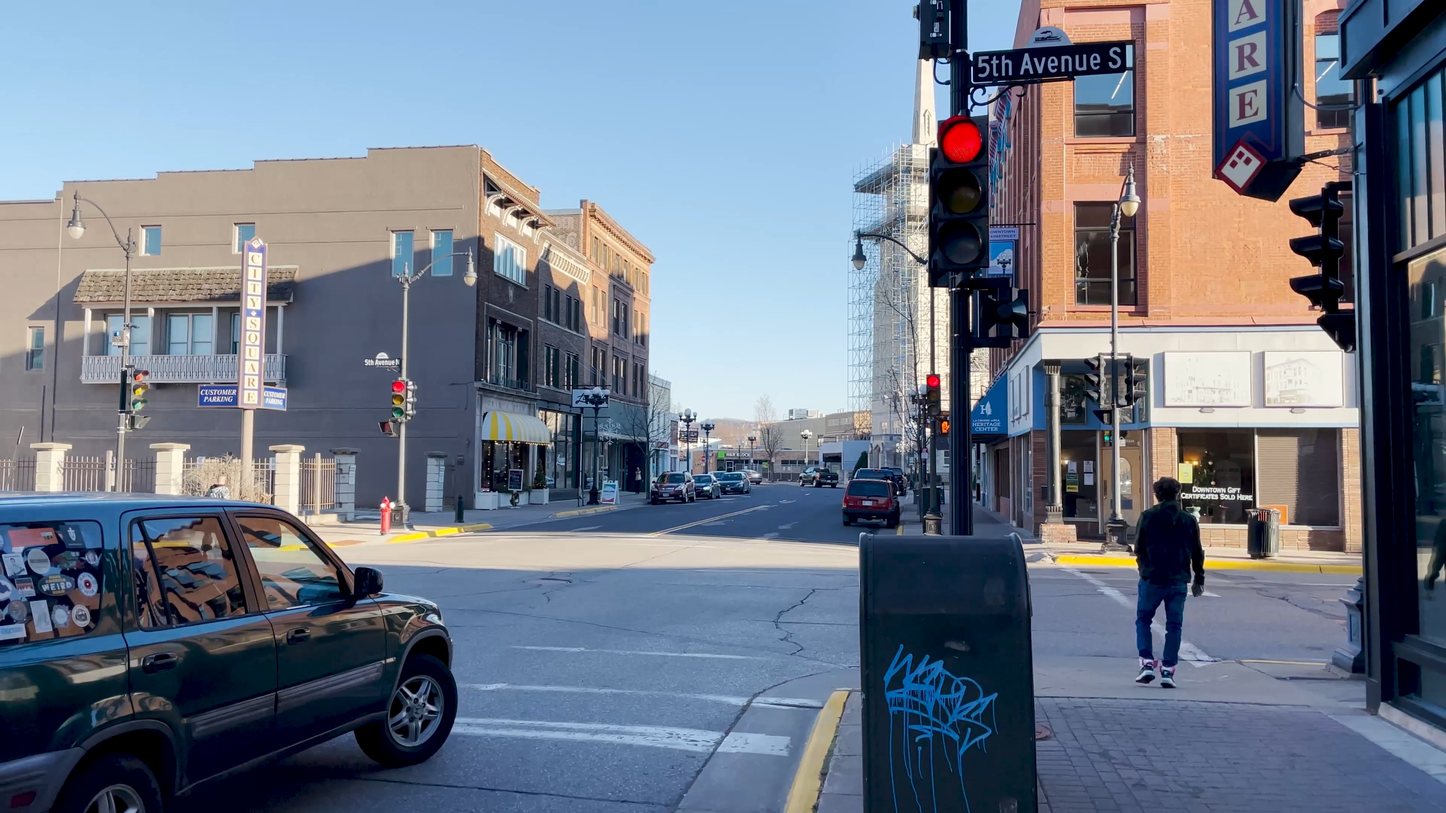red traffic light: (923, 108, 991, 300)
